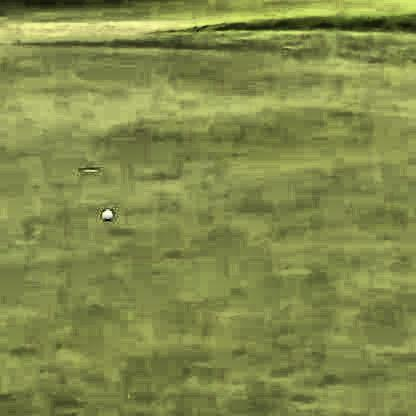golfball: (99, 207, 111, 219)
